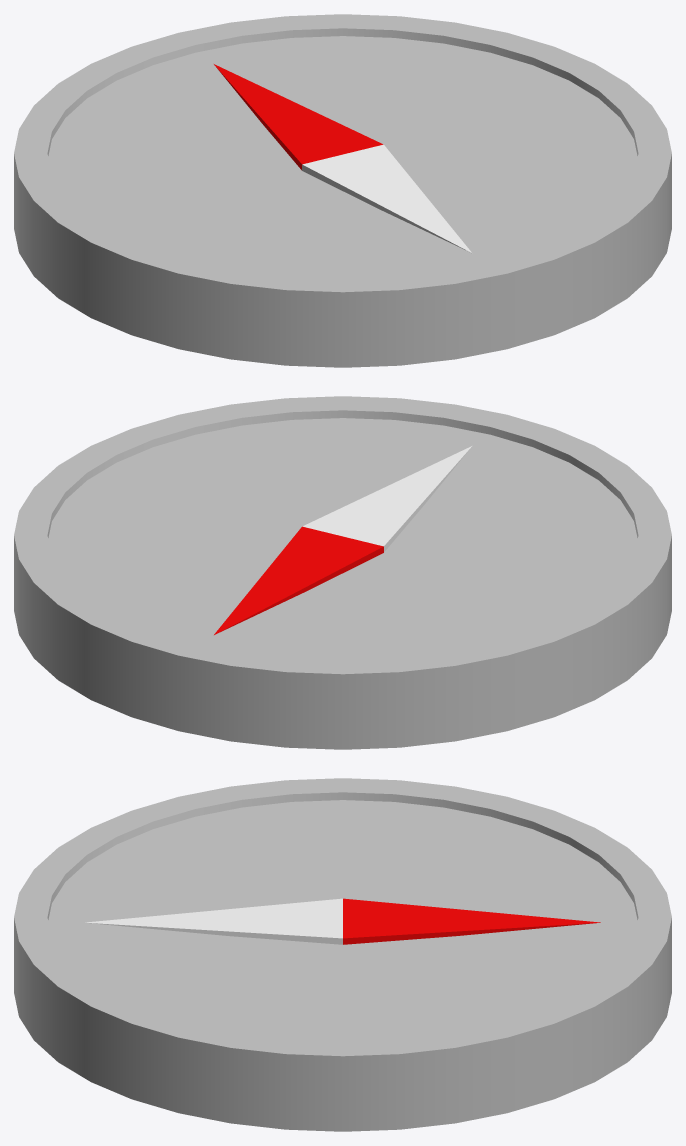
File: Compass.fbx
3 views of the same model, one above another, from view 1: azimuth 30°, elevation 25°; view 2: azimuth 150°, elevation 25°; view 3: azimuth 270°, elevation 25° (orthographic).
Parts seen in each view (by area): view 1: Surface, Cylinder, Pyramid_2, Pyramid, Cylinder_1; view 2: Surface, Cylinder, Pyramid, Pyramid_2, Cylinder_1; view 3: Surface, Cylinder, Pyramid, Pyramid_2, Cylinder_1.
Boxes of the visible parts, x1,y1,x2,y2 form: Surface: (48, 36, 637, 277); Cylinder: (14, 14, 671, 367); Pyramid_2: (302, 144, 471, 252); Pyramid: (214, 64, 383, 170); Cylinder_1: (47, 28, 638, 155); Surface: (48, 418, 637, 659); Cylinder: (14, 396, 671, 749); Pyramid: (214, 526, 383, 634); Pyramid_2: (302, 446, 471, 552); Cylinder_1: (47, 410, 638, 537); Surface: (48, 800, 637, 1041); Cylinder: (14, 778, 671, 1131); Pyramid: (343, 898, 600, 944); Pyramid_2: (85, 898, 342, 944); Cylinder_1: (47, 792, 638, 919).
Bounding box in the file's own units: 304 × 38.57 × 304.
